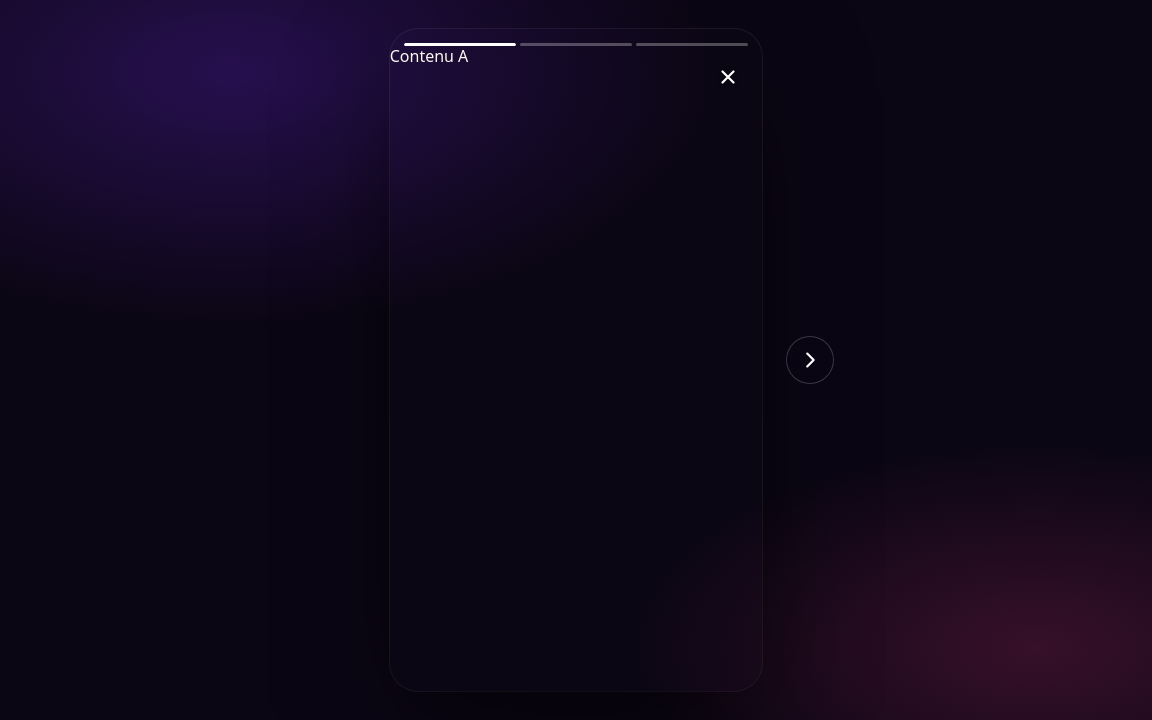
StoryPlayer › avance au tap sur la partie droite et recule au tap sur la partie gauche
Press the mouse on the element with test id "story-frame" at [576, 360], box [390, 29, 762, 691]
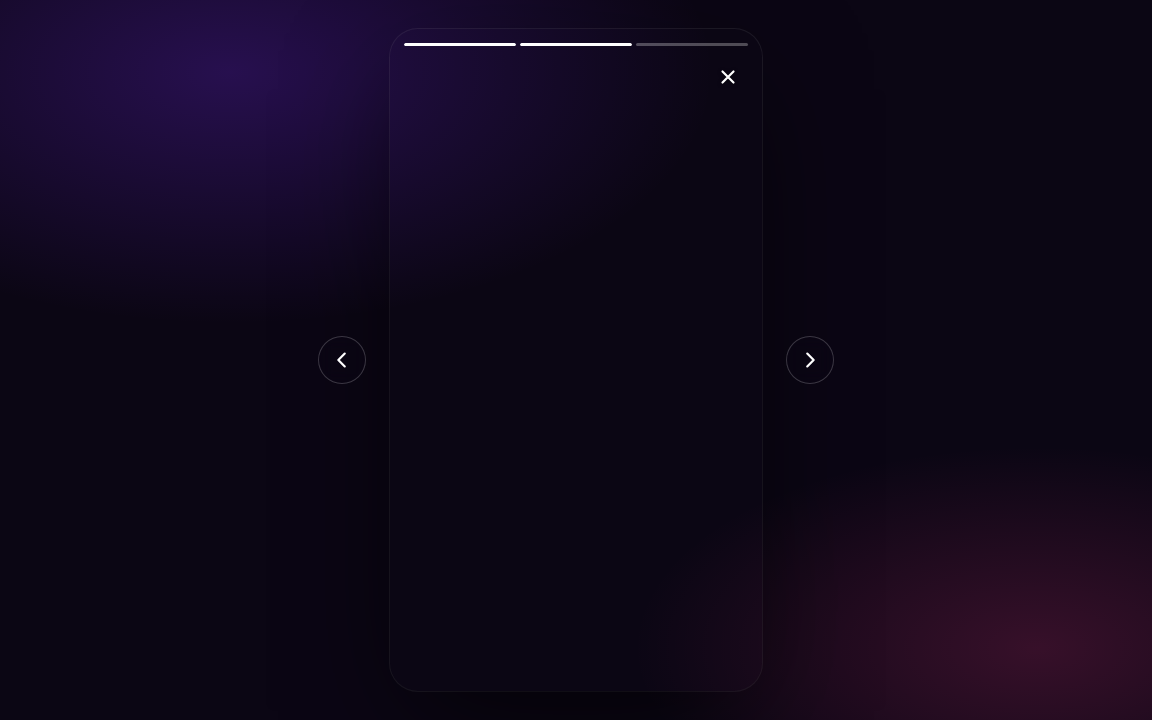
Press the mouse on the element with test id "story-frame" at [576, 360], box [390, 29, 762, 691]
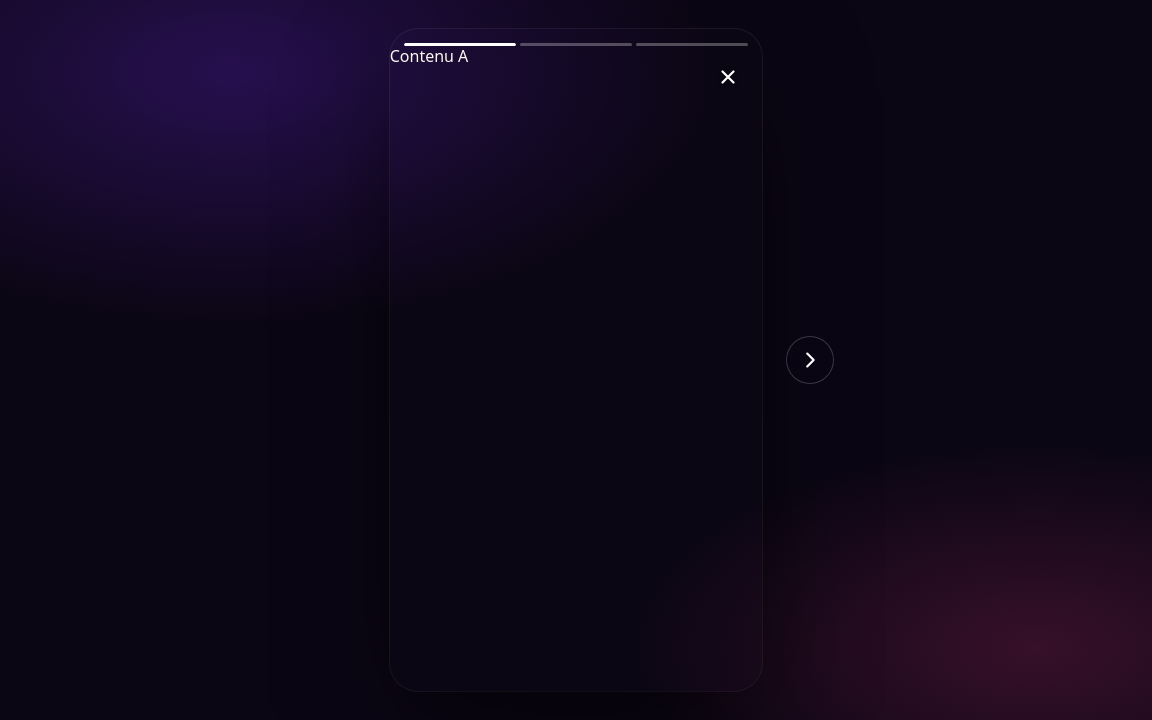
Expected: the text "Contenu A" is shown, [390, 45, 468, 67]
